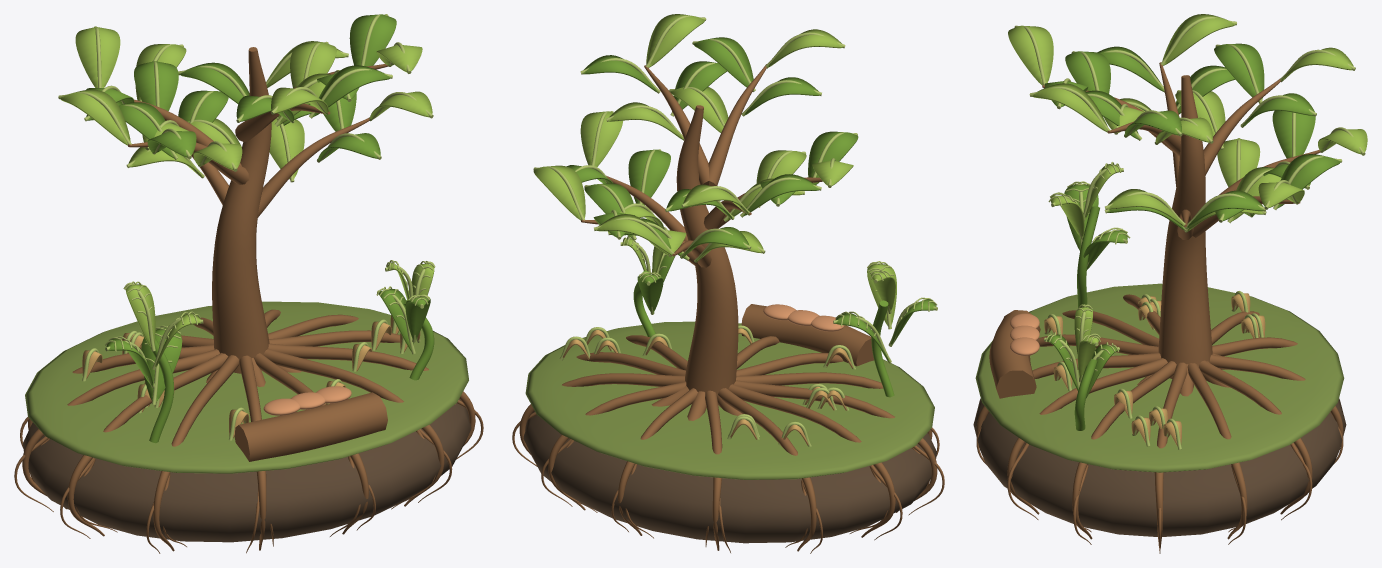
Rendered from branch-7363673f1145.glb.
The picture shows the model from 3 angles, left to right: view 1: azimuth 30°, elevation 25°; view 2: azimuth 150°, elevation 25°; view 3: azimuth 270°, elevation 25°; orthographic projection. The views are drawn at different scales.
Parts seen in each view (by area): view 1: Sphere.001, Sphere, Stem / vein, Stem / vein.184, Stem / vein.076, Stem / vein.064, Stem / vein.067, Stem / vein.079, Stem / vein.061, Leaf blade.007, Leaf blade.022, Leaf blade.005 (+35 smaller); view 2: Sphere.001, Sphere, Stem / vein, Stem / vein.184, Stem / vein.061, Stem / vein.064, Stem / vein.046, Stem / vein.058, Stem / vein.067, Stem / vein.049, Leaf blade.015, Leaf blade.003 (+30 smaller); view 3: Sphere.001, Sphere, Stem / vein, Stem / vein.184, Stem / vein.076, Leaf blade.011, Stem / vein.079, Leaf blade.006, Stem / vein.049, Stem / vein.046, Leaf blade.026, Leaf blade.009 (+33 smaller).
Boxes of the visible parts, bbox=[...] form: Sphere.001: bbox=[25, 301, 468, 473]; Sphere: bbox=[22, 399, 471, 542]; Stem / vein: bbox=[212, 47, 271, 373]; Stem / vein.184: bbox=[234, 392, 387, 461]; Stem / vein.076: bbox=[263, 348, 444, 506]; Stem / vein.064: bbox=[67, 353, 228, 536]; Stem / vein.067: bbox=[153, 355, 239, 551]; Stem / vein.079: bbox=[268, 343, 475, 445]; Stem / vein.061: bbox=[22, 349, 219, 509]; Leaf blade.007: bbox=[75, 27, 120, 87]; Leaf blade.022: bbox=[349, 14, 396, 66]; Leaf blade.005: bbox=[134, 61, 178, 111]; Sphere.001: bbox=[525, 321, 934, 479]; Sphere: bbox=[523, 411, 936, 543]; Stem / vein: bbox=[676, 105, 738, 395]; Stem / vein.184: bbox=[741, 304, 873, 366]; Stem / vein.061: bbox=[728, 384, 895, 537]; Stem / vein.064: bbox=[734, 380, 937, 512]; Stem / vein.046: bbox=[519, 373, 684, 454]; Stem / vein.058: bbox=[718, 388, 816, 551]; Stem / vein.067: bbox=[736, 372, 932, 439]; Stem / vein.049: bbox=[548, 381, 686, 510]; Leaf blade.015: bbox=[533, 165, 585, 220]; Leaf blade.003: bbox=[580, 111, 622, 166]; Sphere.001: bbox=[975, 283, 1344, 472]; Sphere: bbox=[973, 398, 1346, 536]; Stem / vein: bbox=[1158, 75, 1212, 378]; Stem / vein.184: bbox=[989, 310, 1040, 398]; Stem / vein.076: bbox=[1007, 358, 1167, 514]; Leaf blade.011: bbox=[1008, 25, 1053, 85]; Stem / vein.079: bbox=[1072, 361, 1176, 539]; Leaf blade.006: bbox=[1214, 43, 1264, 102]; Stem / vein.049: bbox=[1199, 360, 1312, 514]; Stem / vein.046: bbox=[1187, 363, 1247, 539]; Leaf blade.026: bbox=[1272, 110, 1315, 158]; Leaf blade.009: bbox=[1065, 51, 1110, 93].
Bounding box in the file's own units: 2.2 × 2.3 × 1.84.
